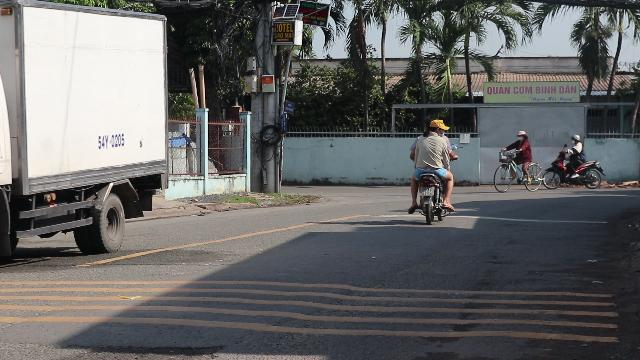licenseplate: (419, 186, 433, 194)
motorcyclist: (404, 117, 456, 223)
nohelmet: (428, 119, 448, 135)
